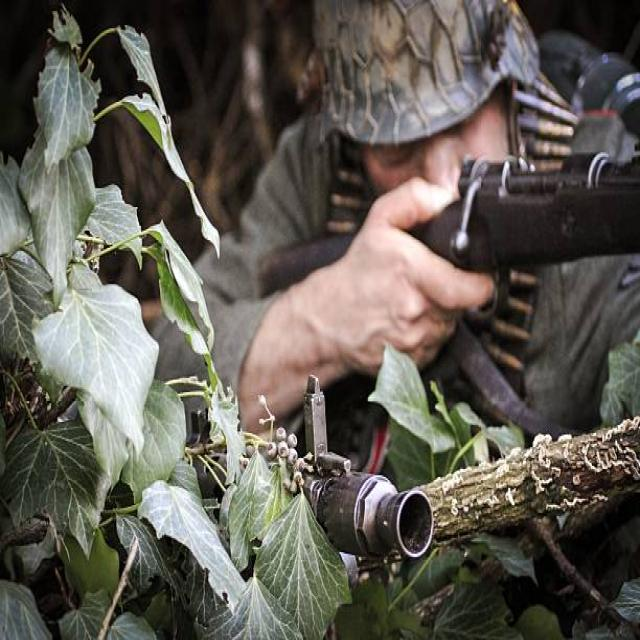soldier: (183, 1, 640, 421)
